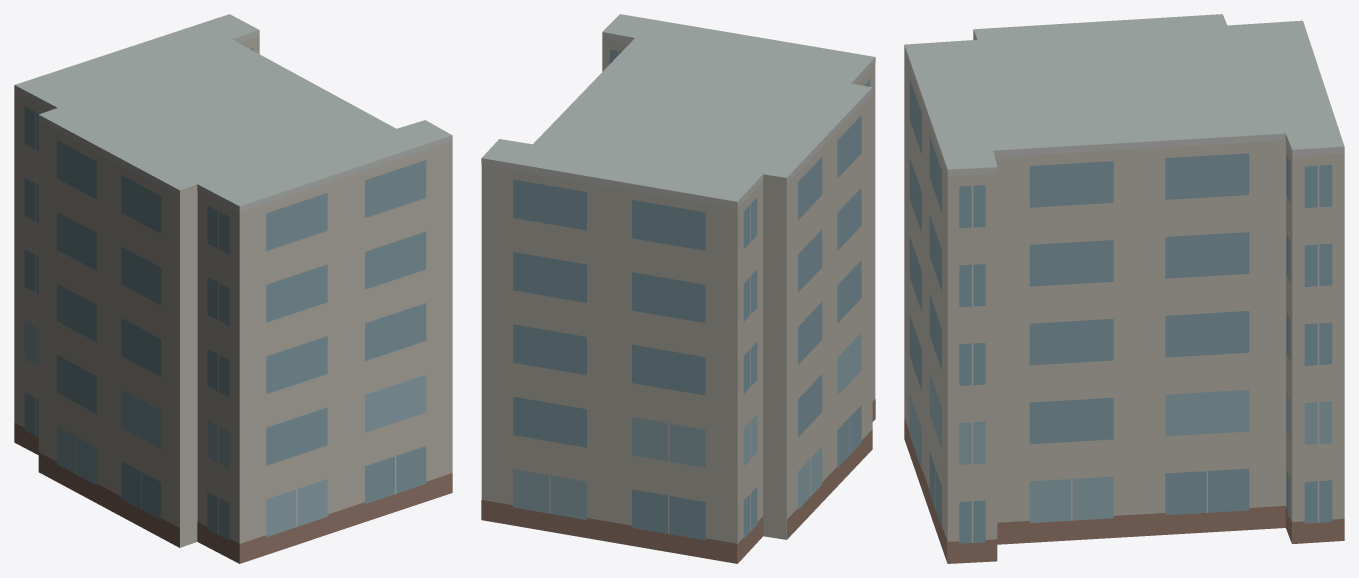
The model's file is survey-upis-32722049.glb.
3 renders of one model, left to right at view 1: azimuth 30°, elevation 25°; view 2: azimuth 150°, elevation 25°; view 3: azimuth 270°, elevation 25°, orthographic. The views are drawn at different scales.
Visible parts, largest first — view 1: survey-upis-32722049.tmp; view 2: survey-upis-32722049.tmp; view 3: survey-upis-32722049.tmp.
Boxes of the visible parts, <box> form: survey-upis-32722049.tmp: <box>14,14,452,563</box>; survey-upis-32722049.tmp: <box>481,14,875,563</box>; survey-upis-32722049.tmp: <box>904,14,1344,563</box>.
Bounding box in the file's own units: 11.78 × 13.9 × 14.08.
